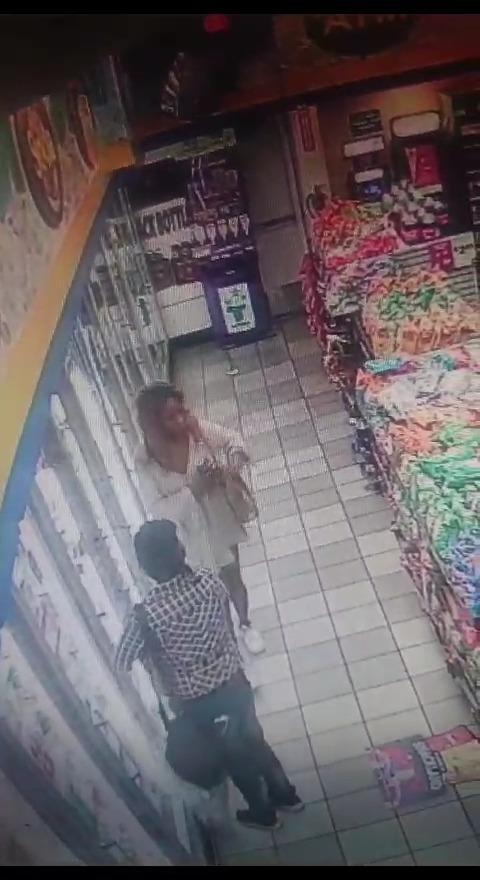Normal: (145, 512, 332, 840)
shoplifting: (126, 338, 252, 557)
